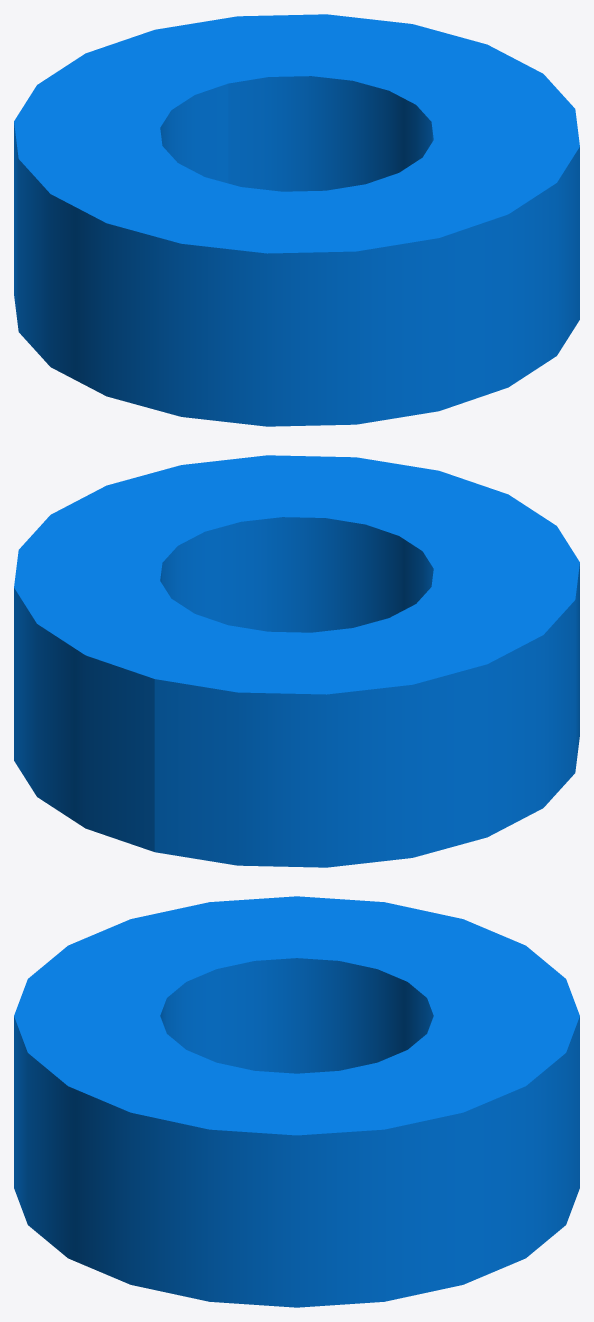
The model's file is Obj_Player_2.fbx.
3 views of the same model, one above another, from view 1: azimuth 30°, elevation 25°; view 2: azimuth 150°, elevation 25°; view 3: azimuth 270°, elevation 25° (orthographic).
Parts seen in each view (by area): view 1: polySurface2; view 2: polySurface2; view 3: polySurface2.
Part boxes in pixels (left/top/right/bottom): polySurface2: left=14, top=14, right=579, bottom=426; polySurface2: left=14, top=455, right=579, bottom=867; polySurface2: left=14, top=896, right=579, bottom=1307.
Bounding box in the file's own units: 14.89 × 5 × 14.89.
